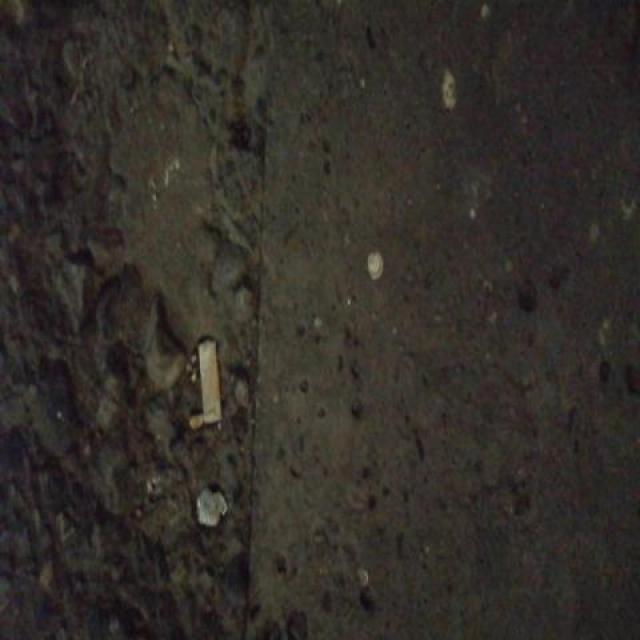non-organic waste: (188, 334, 228, 426)
